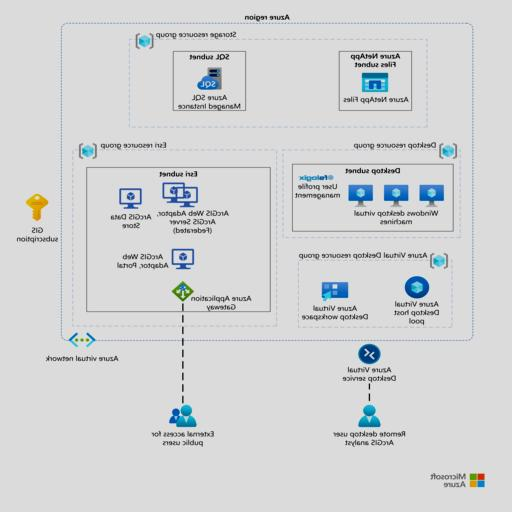actor: (170, 402, 198, 430), (358, 402, 381, 430)
api_gateway: (182, 310, 185, 402), (368, 314, 371, 340), (368, 382, 371, 402)
compute: (172, 279, 195, 307)
data_flow: (26, 194, 50, 222), (358, 340, 381, 368), (406, 274, 429, 302), (324, 274, 347, 302)
database_storage: (166, 178, 194, 206), (172, 244, 195, 272), (424, 180, 442, 204), (388, 180, 406, 204), (352, 180, 370, 204), (318, 173, 342, 191)
network_security: (364, 68, 388, 96), (198, 64, 222, 92), (119, 183, 142, 211)
trust_boundary: (62, 19, 474, 339), (79, 148, 271, 328), (101, 40, 434, 126), (290, 148, 454, 236), (299, 251, 453, 328), (339, 48, 413, 108), (173, 48, 247, 108)
